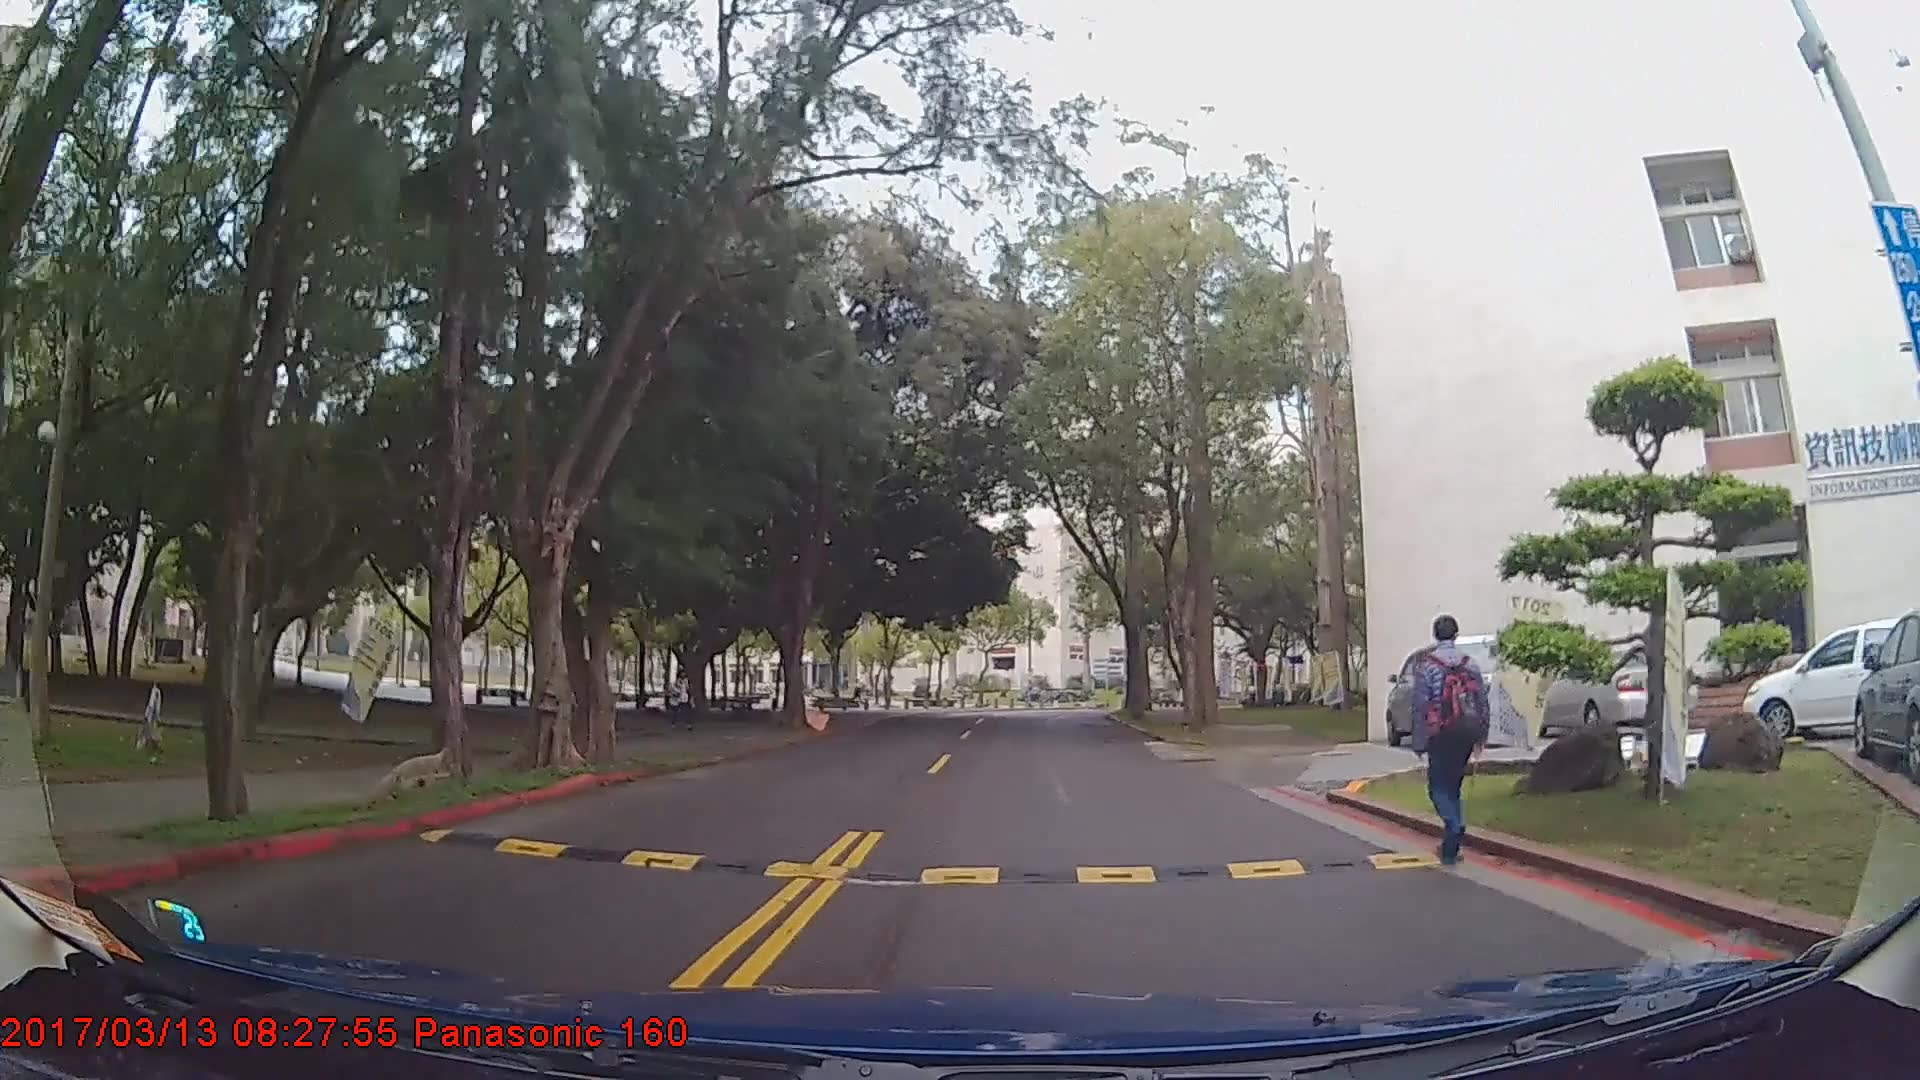pedestrian: (1412, 612, 1492, 868), (669, 668, 698, 732)
vehicle: (1738, 618, 1913, 743)
